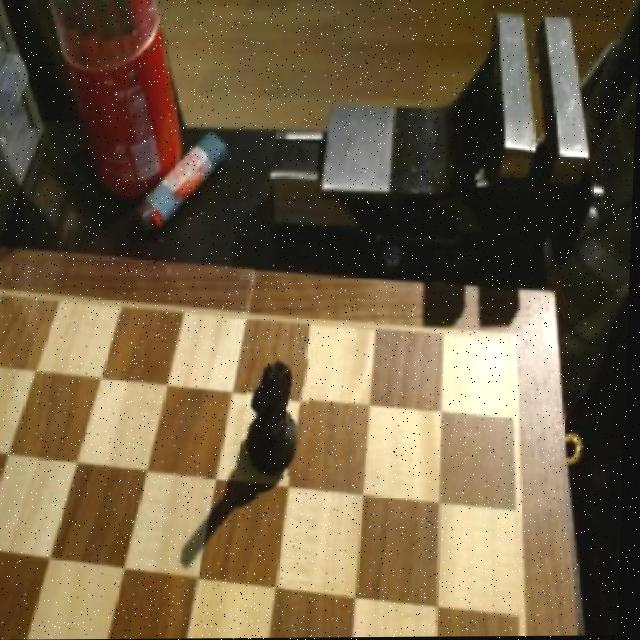black-king: (245, 355, 315, 477)
